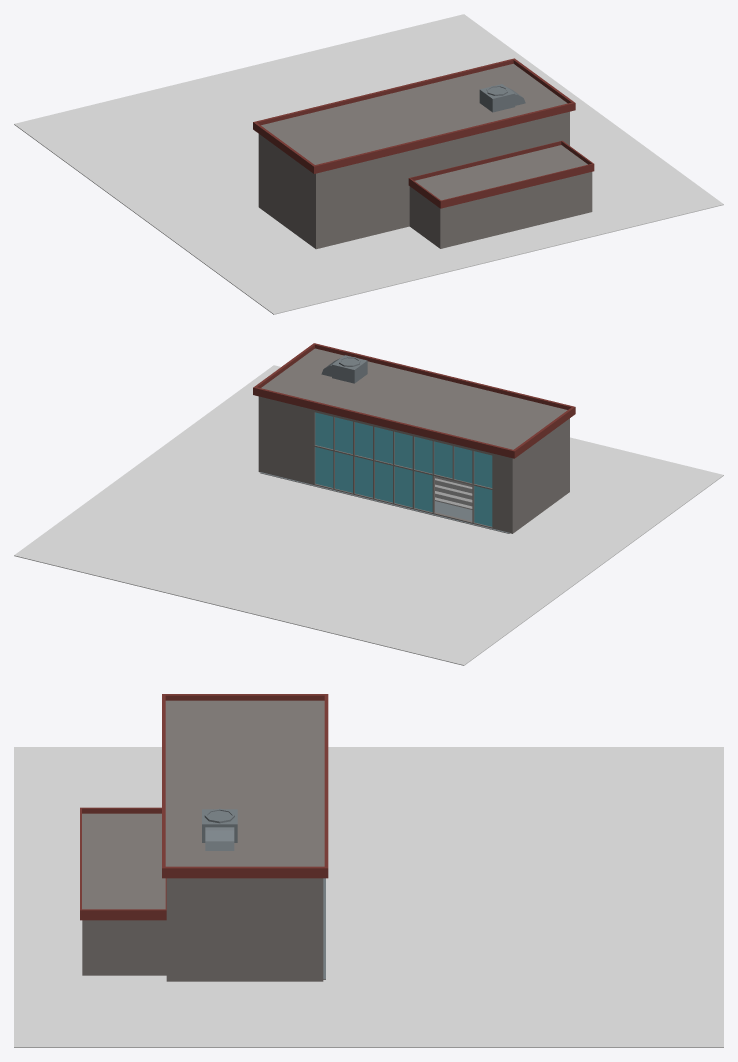
The model's file is supermarket.fbx.
3 renders of one model, top to bottom at view 1: azimuth 30°, elevation 25°; view 2: azimuth 150°, elevation 25°; view 3: azimuth 270°, elevation 25°, orthographic. The views are drawn at different scales.
Parts seen in each view (by area): view 1: Plane, Cube; view 2: Plane, Cube; view 3: Plane, Cube.
Boxes of the visible parts, x1,y1,x2,y2 form: Plane: [14, 14, 723, 314]; Cube: [253, 58, 594, 249]; Plane: [14, 365, 723, 665]; Cube: [253, 343, 575, 533]; Plane: [14, 747, 723, 1047]; Cube: [80, 694, 328, 981].
Bounding box in the file's own units: 4000 × 836 × 4000.
